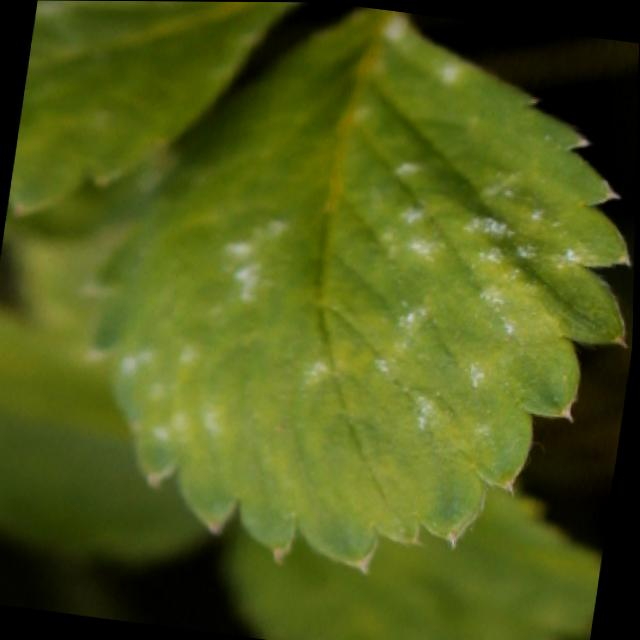Powdery Mildew Leaf: (80, 5, 635, 578), (8, 0, 299, 218)
